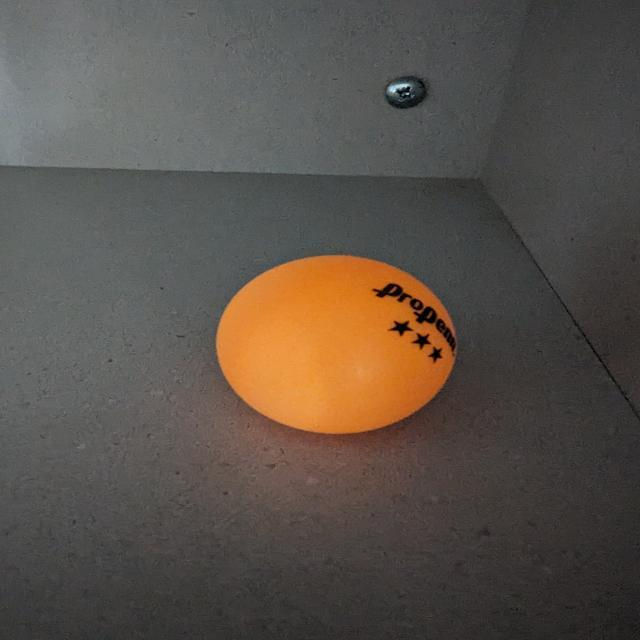ping-pong-ball: (200, 246, 470, 437)
